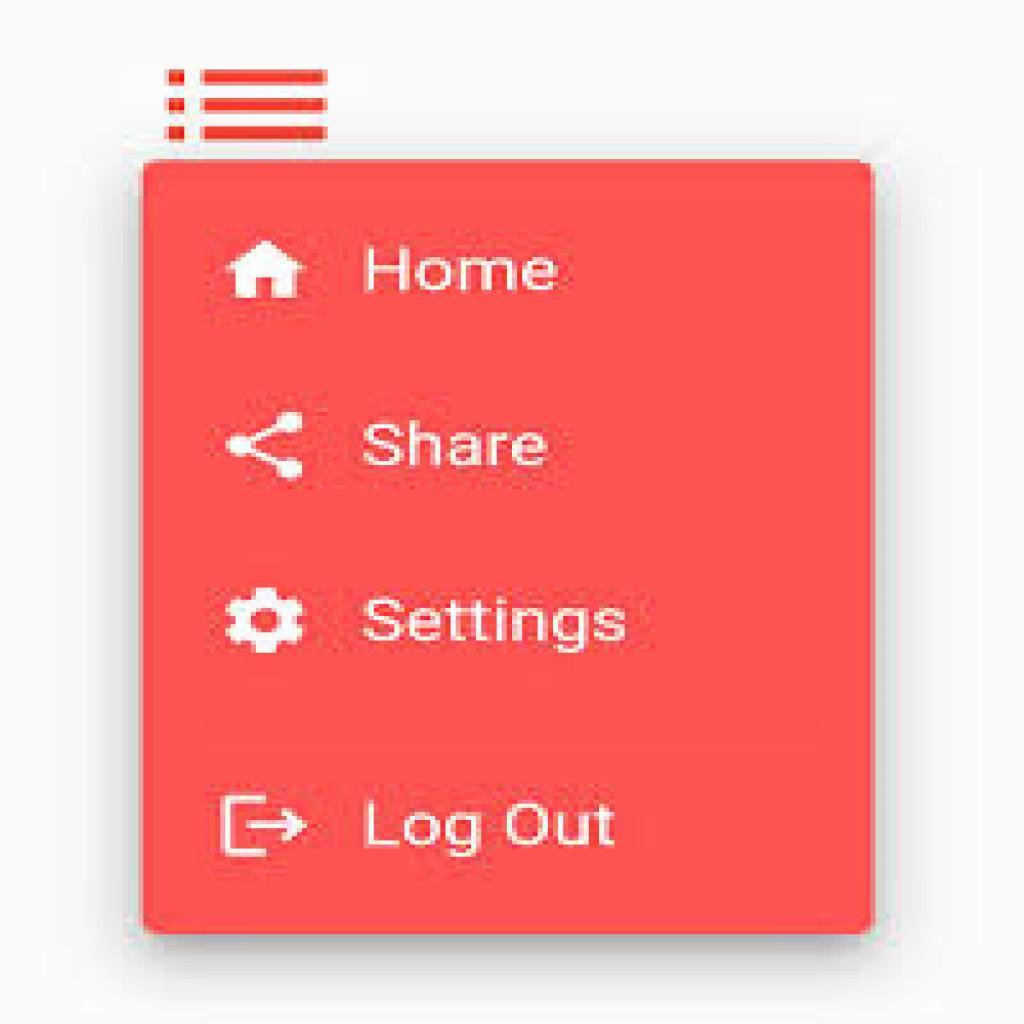icon: (160, 57, 336, 161), (218, 396, 313, 501), (209, 774, 314, 869), (218, 228, 312, 325), (213, 582, 320, 659)
